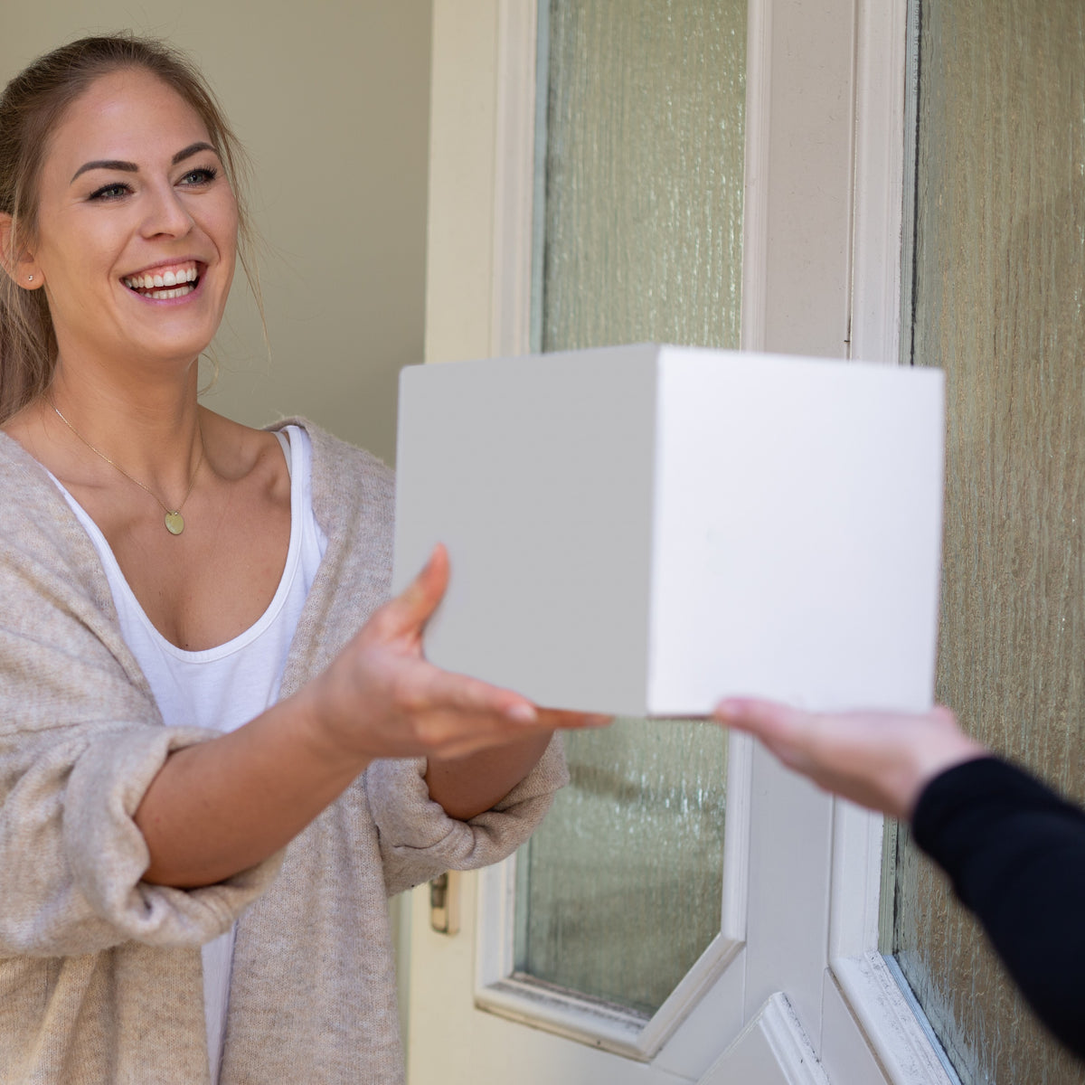泡沫箱: (395, 347, 943, 715)
